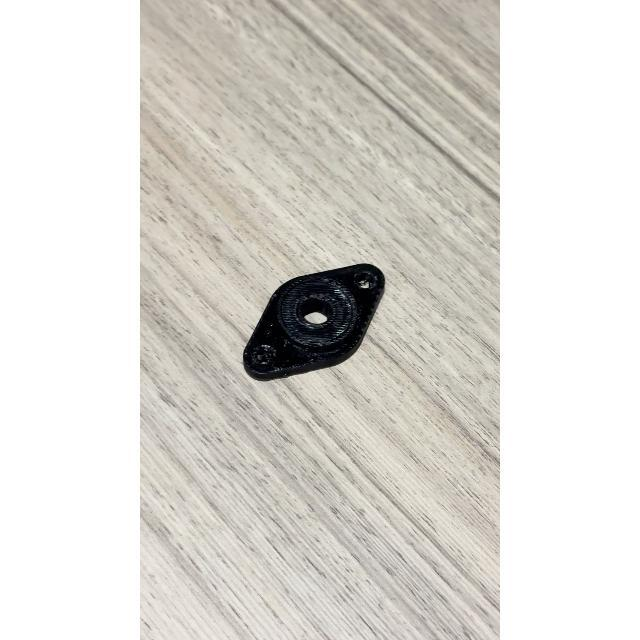Pieza2: (240, 253, 404, 397)
